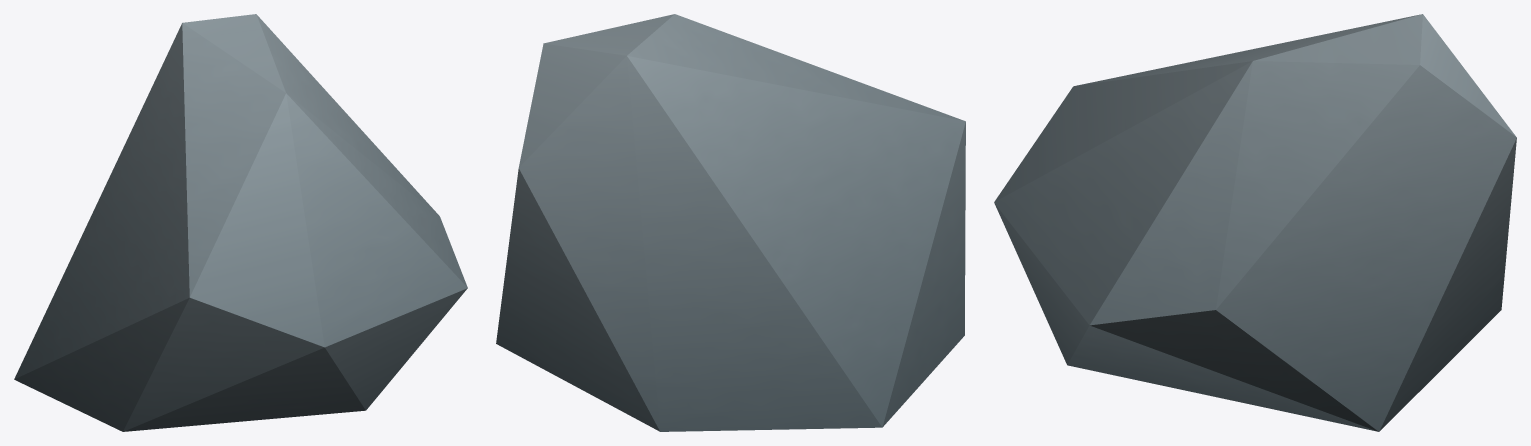
Rendered from rock2.glb.
3 views of the same model, side by side, from view 1: azimuth 30°, elevation 25°; view 2: azimuth 150°, elevation 25°; view 3: azimuth 270°, elevation 25° (orthographic). The views are drawn at different scales.
Visible parts, largest first — view 1: rock2; view 2: rock2; view 3: rock2.
Boxes of the visible parts, left/top/right/bottom form: rock2: left=14, top=14, right=467, bottom=431; rock2: left=496, top=14, right=965, bottom=431; rock2: left=994, top=14, right=1516, bottom=431.
Size of the model in its own units: 1.73 by 1.33 by 1.84.
1 material, 1 textured.
